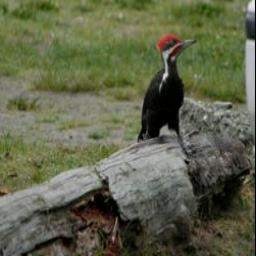Woodpecker: (137, 27, 198, 148)
